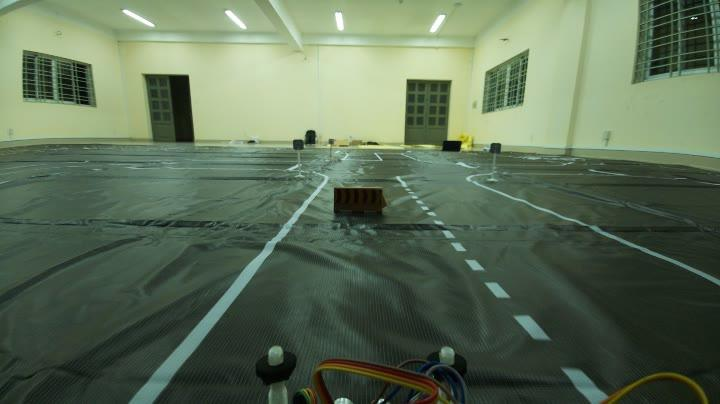roadblock: (329, 182, 388, 220)
